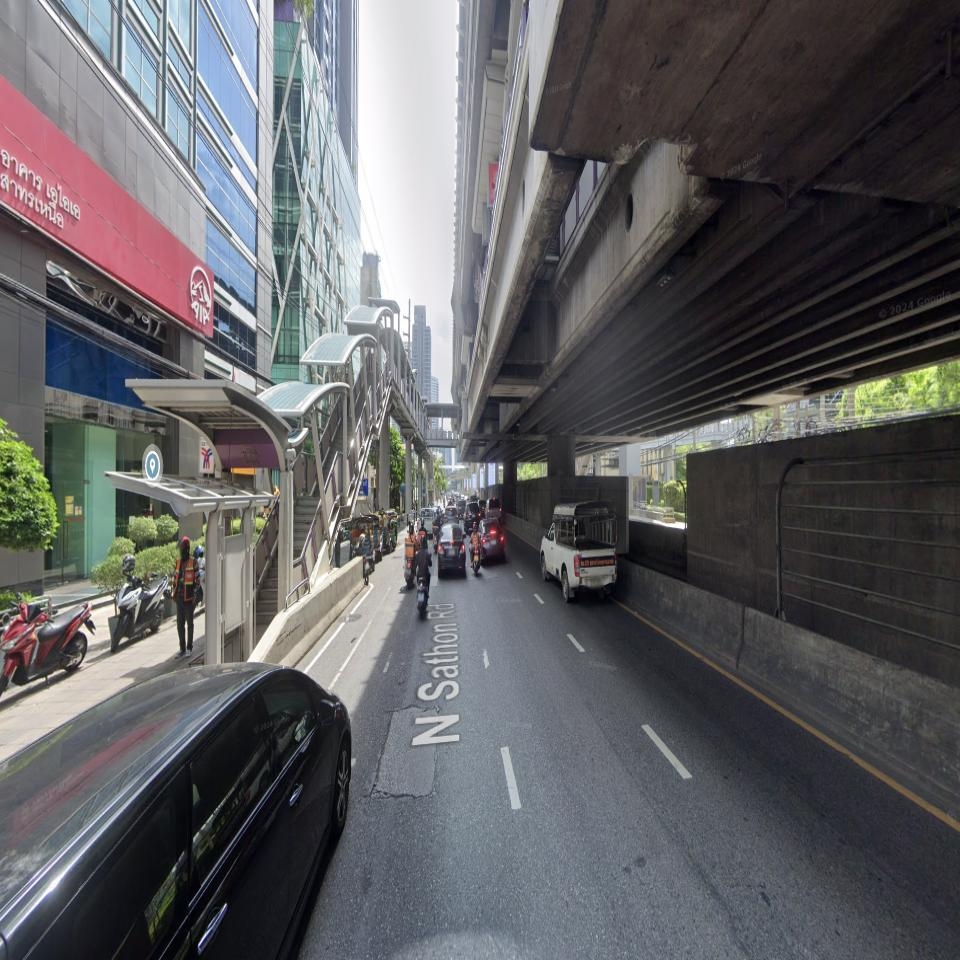Surasak: (198, 435, 280, 474), (215, 443, 280, 467)
